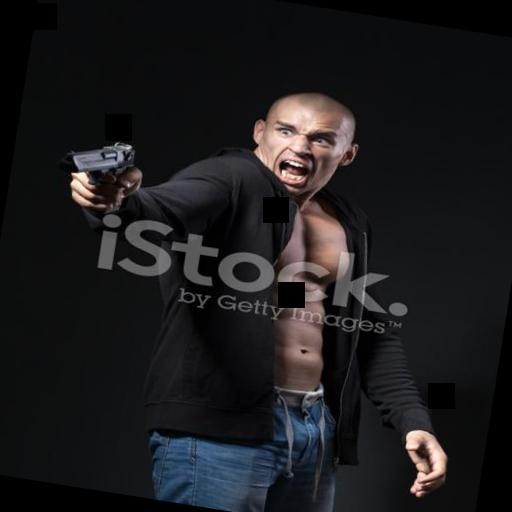Handgun: (53, 130, 135, 194)
